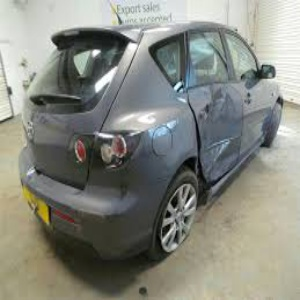door: (200, 90, 254, 183)
tail_lights: (69, 128, 140, 171)
